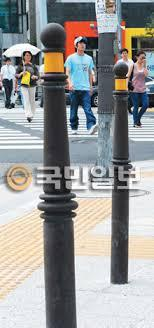Animal: (33, 12, 91, 322), (94, 41, 142, 309)
